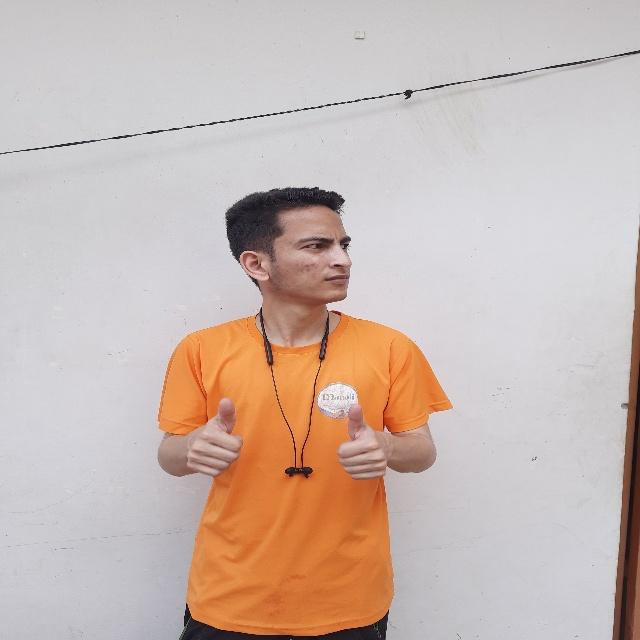Thumbs Up: (180, 393, 251, 485), (332, 398, 392, 487)
